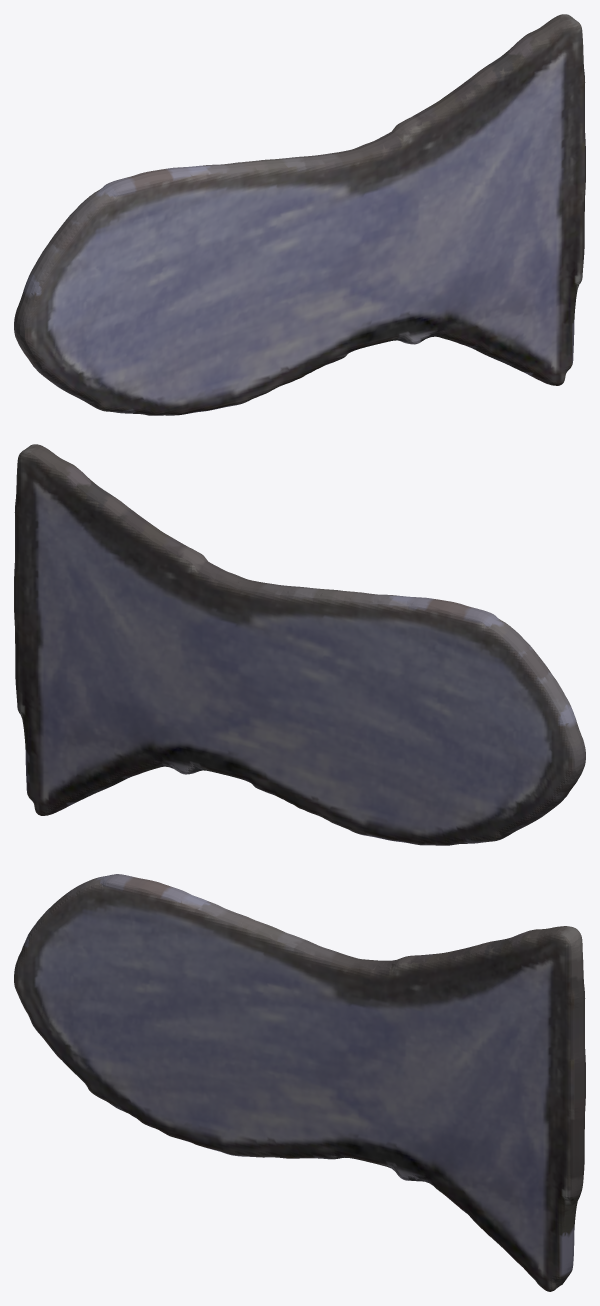
File: fish.gltf
3 views of the same model, one above another, from view 1: azimuth 30°, elevation 25°; view 2: azimuth 150°, elevation 25°; view 3: azimuth 330°, elevation 25° (orthographic).
Size of the model in its own units: 0.2518 by 0.1535 by 0.0101.
